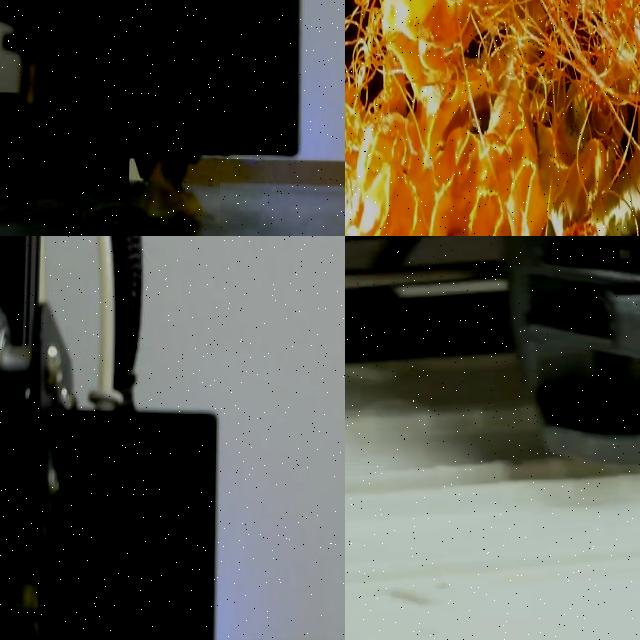spaghetti: (345, 0, 640, 236), (135, 178, 220, 224)
